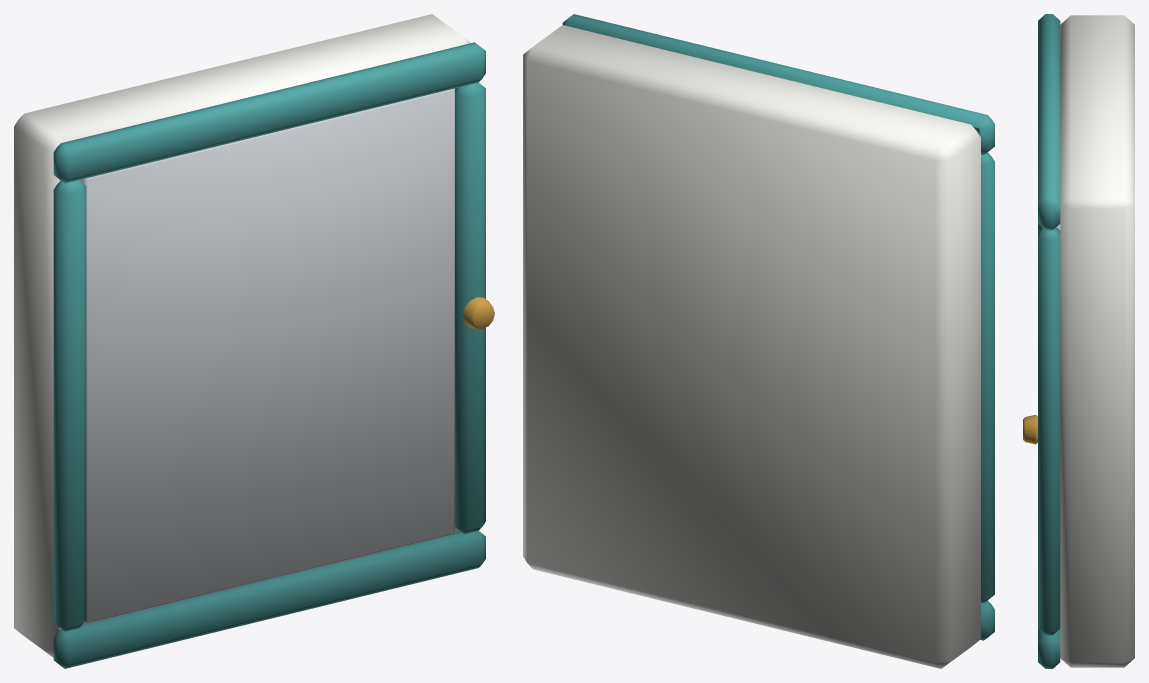
Rendered from MirrorCabinet_01.glb.
The picture shows the model from 3 angles, left to right: view 1: azimuth 30°, elevation 25°; view 2: azimuth 150°, elevation 25°; view 3: azimuth 270°, elevation 25°; orthographic projection. The views are drawn at different scales.
Visible parts, largest first — view 1: SM_MirrorCabinet_01; view 2: SM_MirrorCabinet_01; view 3: SM_MirrorCabinet_01.
Boxes of the visible parts, box(x1,y1,x2,y2) form: SM_MirrorCabinet_01: box(14, 14, 494, 668); SM_MirrorCabinet_01: box(523, 14, 994, 668); SM_MirrorCabinet_01: box(1023, 14, 1134, 668).
Size of the model in its own units: 0.6 by 0.7 by 0.15.
Materials: 1 (1 with a texture image).
